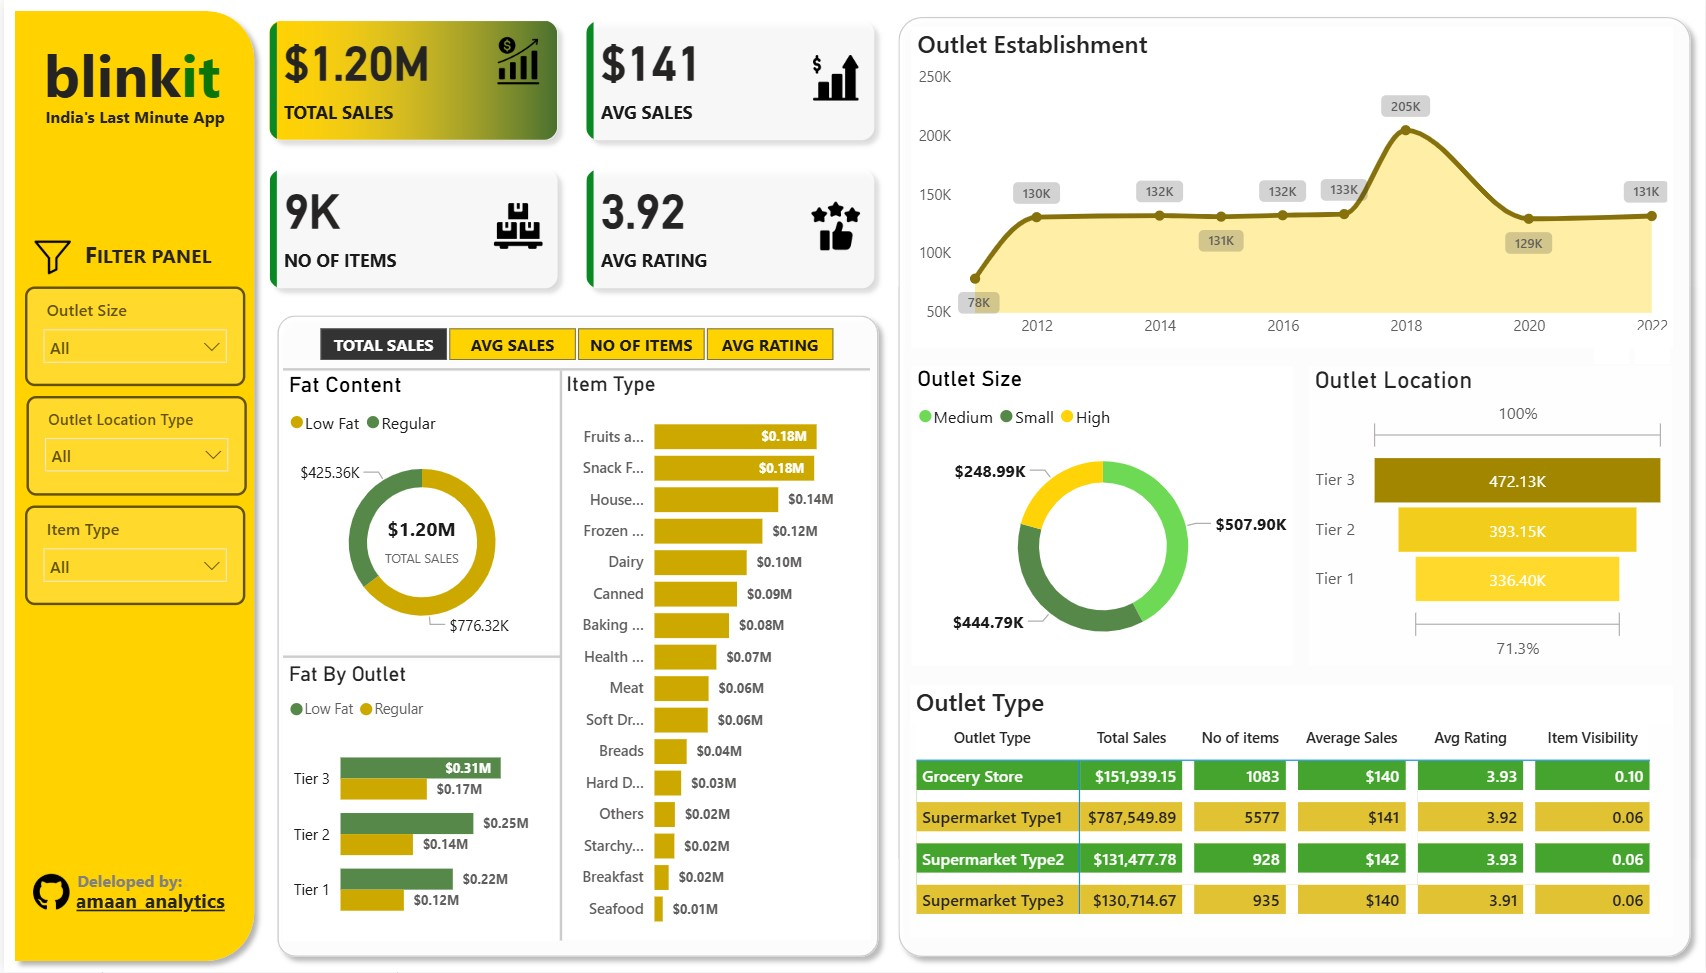

Layout of this report page (visuals, bound fields, positions):
{"tool":"powerbi","page":{"name":"Page 1","canvas":[1400,800],"ordinal":0},"visuals":[{"type":"shape","box":[0,0,215,799.9],"z":0},{"type":"textbox","box":[18,22,174,76],"z":1000},{"type":"textbox","box":[10,82,196,29],"z":2000},{"type":"cardVisual","fields":{"Data":["BlinkIT Grocery Data.Total Sales","BlinkIT Grocery Data.Average Sales","BlinkIT Grocery Data.No OF ITEMS","BlinkIT Grocery Data.AVERAGE RATING"]},"box":[201.4,0,532.9,254.3],"z":3000},{"type":"shape","box":[215.8,250,512.5,545.8],"z":4000},{"type":"donutChart","title":"Fat Content","fields":{"Y":["BlinkIT Grocery Data.Total Sales"],"Category":["BlinkIT Grocery Data.Item Fat Content"]},"box":[230,306.7,228.3,230],"z":5000},{"type":"slicer","fields":{"Values":["Parameter.Parameter"]},"box":[235,263,472,40],"z":6000},{"type":"card","fields":{"Values":["BlinkIT Grocery Data.Total Sales"]},"box":[295,412.1,97.1,63.6],"z":7000},{"type":"clusteredBarChart","title":"Fat By Outlet","fields":{"Y":["BlinkIT Grocery Data.Total Sales"],"Category":["BlinkIT Grocery Data.Outlet Location Type"],"Series":["BlinkIT Grocery Data.Item Fat Content"]},"box":[230,544.2,228.3,230],"z":8000},{"type":"barChart","title":"Item Type","fields":{"Y":["BlinkIT Grocery Data.Total Sales"],"Category":["BlinkIT Grocery Data.Item Type"]},"box":[458.3,306.7,255,467.5],"z":9000},{"type":"shape","box":[428.5,304.6,60,469.2],"z":10000},{"type":"shape","box":[230,530,228.3,21.7],"z":11000},{"type":"shape","box":[726.7,5,670,791.7],"z":12000},{"type":"lineChart","title":"Outlet Establishment","fields":{"Y":["Sum(BlinkIT Grocery Data.Sales)"],"Category":["BlinkIT Grocery Data.Outlet Establishment Year"]},"box":[746.8,22.6,626.9,264],"z":13000},{"type":"donutChart","title":"Outlet Size","fields":{"Y":["BlinkIT Grocery Data.Total Sales"],"Category":["BlinkIT Grocery Data.Outlet Size"]},"box":[746.7,301.1,314.4,246.7],"z":14000},{"type":"funnel","title":"Outlet Location ","fields":{"Y":["Sum(BlinkIT Grocery Data.Sales)"],"Category":["BlinkIT Grocery Data.Outlet Location Type"]},"box":[1074.4,300.7,298.9,246.7],"z":15000},{"type":"pivotTable","title":"Outlet Type","fields":{"Rows":["BlinkIT Grocery Data.Outlet Type"],"Values":["BlinkIT Grocery Data.Total Sales","BlinkIT Grocery Data.No OF ITEMS","BlinkIT Grocery Data.Average Sales","BlinkIT Grocery Data.AVERAGE RATING","Avg(BlinkIT Grocery Data.Item Visibility)"]},"box":[746,564,628,208],"z":16000},{"type":"shape","box":[230,296.2,483.1,15.4],"z":17000},{"type":"slicer","fields":{"Values":["BlinkIT Grocery Data.Outlet Size"]},"box":[17.1,235.5,181.1,82.2],"z":18000},{"type":"slicer","fields":{"Values":["BlinkIT Grocery Data.Outlet Location Type"]},"box":[18.3,325.5,181.1,82.2],"z":19000},{"type":"slicer","fields":{"Values":["BlinkIT Grocery Data.Item Type"]},"box":[17.1,416.6,181.1,82.2],"z":20000},{"type":"textbox","box":[48.9,191.1,138.9,41.1],"z":21000},{"type":"image","box":[20,188.8,40,46.2],"z":22000},{"type":"textbox","box":[50,710,105.6,30],"z":22001},{"type":"textbox","box":[54.5,724.5,140,33.6],"z":22002},{"type":"image","box":[16.9,713.8,43.1,40],"z":22003}]}

Visuals, with their boxes in screenshot pixels (x1, y1, x2, y2), scaled from the page's 1400x800 canvas onto the 1706x973 screenshot:
shape: crop(0, 0, 262, 972)
textbox: crop(22, 27, 234, 119)
textbox: crop(12, 100, 251, 135)
cardVisual - BlinkIT Grocery Data.Total Sales x BlinkIT Grocery Data.Average Sales: crop(245, 0, 895, 309)
shape: crop(263, 304, 887, 968)
"Fat Content" donutChart: crop(280, 373, 558, 653)
slicer - Parameter.Parameter: crop(286, 320, 862, 369)
card - BlinkIT Grocery Data.Total Sales: crop(359, 501, 478, 579)
"Fat By Outlet" clusteredBarChart: crop(280, 662, 558, 942)
"Item Type" barChart: crop(558, 373, 869, 942)
shape: crop(522, 370, 595, 941)
shape: crop(280, 645, 558, 671)
shape: crop(886, 6, 1702, 969)
"Outlet Establishment" lineChart: crop(910, 27, 1674, 349)
"Outlet Size" donutChart: crop(910, 366, 1293, 666)
"Outlet Location " funnel: crop(1309, 366, 1673, 666)
"Outlet Type" pivotTable: crop(909, 686, 1674, 939)
shape: crop(280, 360, 869, 379)
slicer - BlinkIT Grocery Data.Outlet Size: crop(21, 286, 242, 386)
slicer - BlinkIT Grocery Data.Outlet Location Type: crop(22, 396, 243, 496)
slicer - BlinkIT Grocery Data.Item Type: crop(21, 507, 242, 607)
textbox: crop(60, 232, 229, 282)
image: crop(24, 230, 73, 286)
textbox: crop(61, 864, 190, 900)
textbox: crop(66, 881, 237, 922)
image: crop(21, 868, 73, 917)
